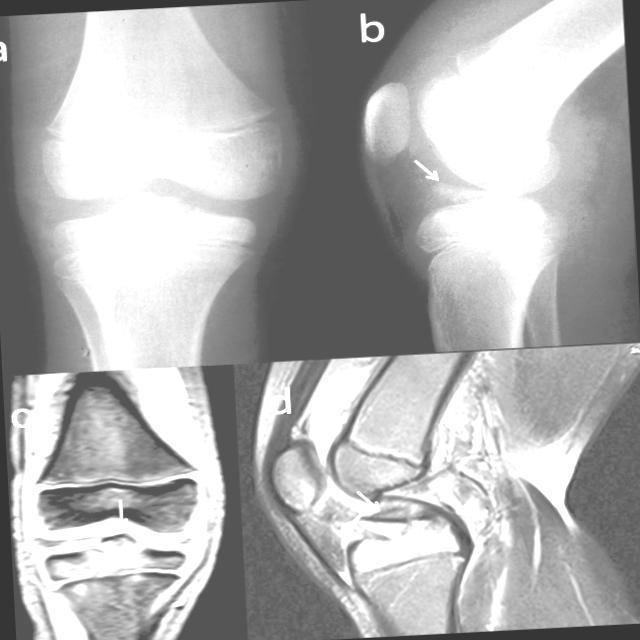Avlusion Fracture: (422, 178, 484, 206), (98, 524, 146, 552), (353, 508, 428, 525)
